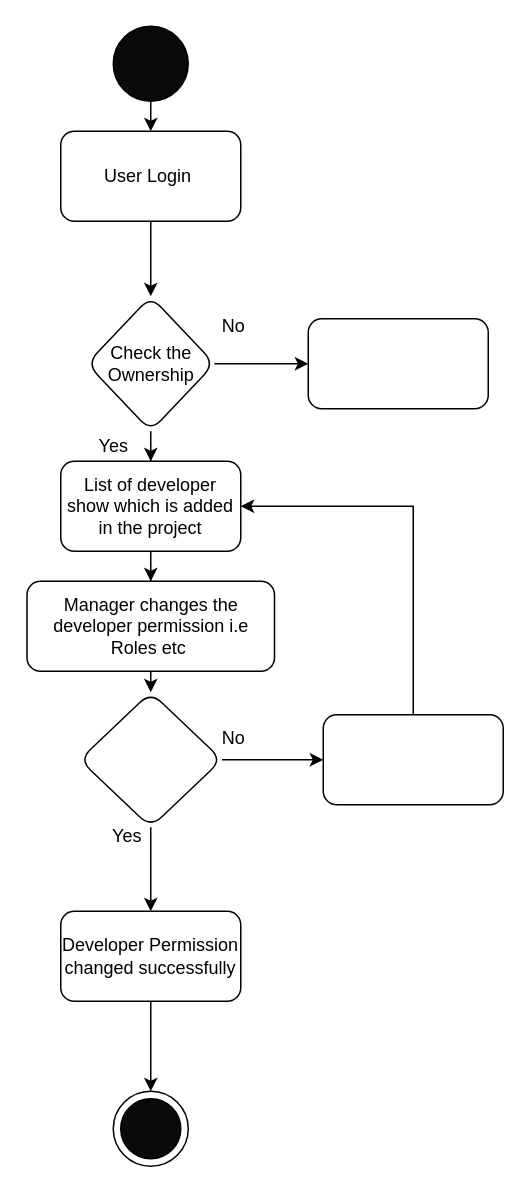
Image size: 530x1193. Some labels were removed from this diagram. Here are the shapes that lost their labels. From the top down, the centre of each, then its label:
At point 397,363: "Show error Only Manager has the authority".
At point 150,759: "Confirmation".
At point 412,759: "Go back to developer list".
